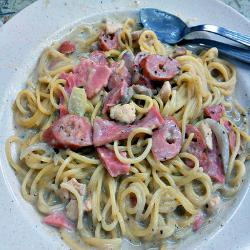carbonara: (20, 32, 246, 235)
